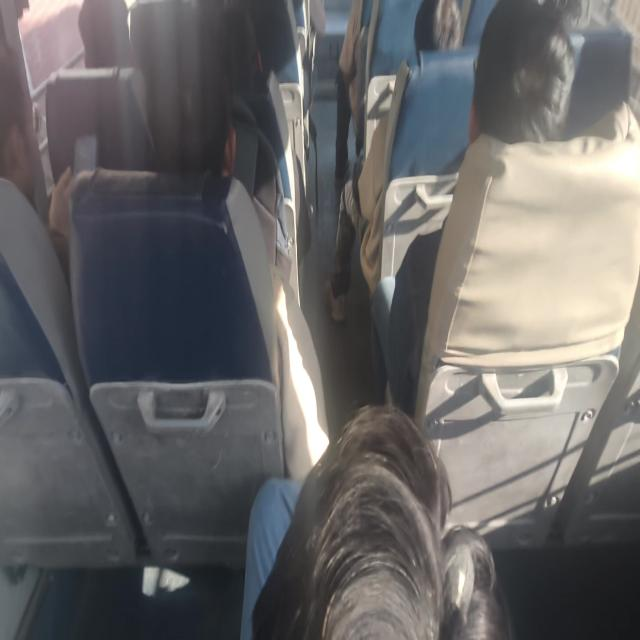person: (371, 0, 638, 418), (241, 401, 510, 638), (323, 0, 462, 322), (0, 1, 75, 278)
